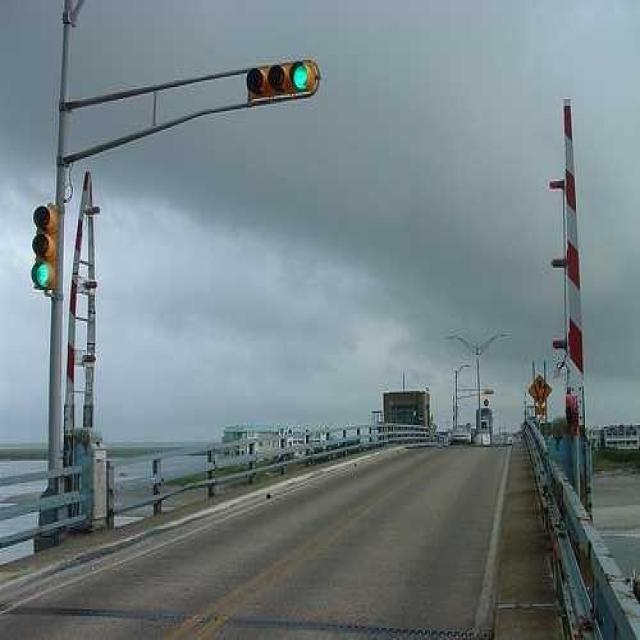Traffic Light -Green-: (28, 198, 62, 295), (236, 62, 319, 101)
Traffic Light -Yellow-: (28, 198, 62, 297)
